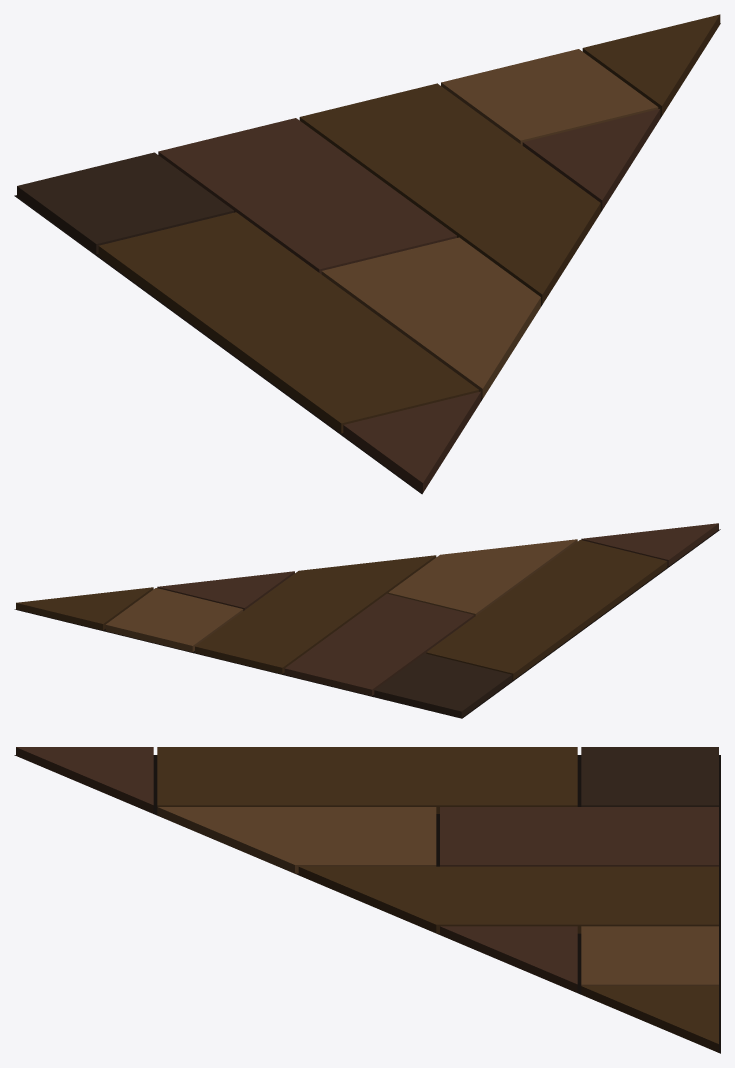
The model's file is SM_Floor_Corner.fbx.
3 renders of one model, top to bottom at view 1: azimuth 30°, elevation 25°; view 2: azimuth 150°, elevation 25°; view 3: azimuth 270°, elevation 25°, orthographic. The views are drawn at different scales.
Parts seen in each view (by area): view 1: Floor_Corner; view 2: Floor_Corner; view 3: Floor_Corner.
Boxes of the visible parts, x1,y1,x2,y2 form: Floor_Corner: (14,14,720,494); Floor_Corner: (14,523,720,718); Floor_Corner: (14,747,720,1053).
Size of the model in its own units: 100 by 1.37 by 100.
